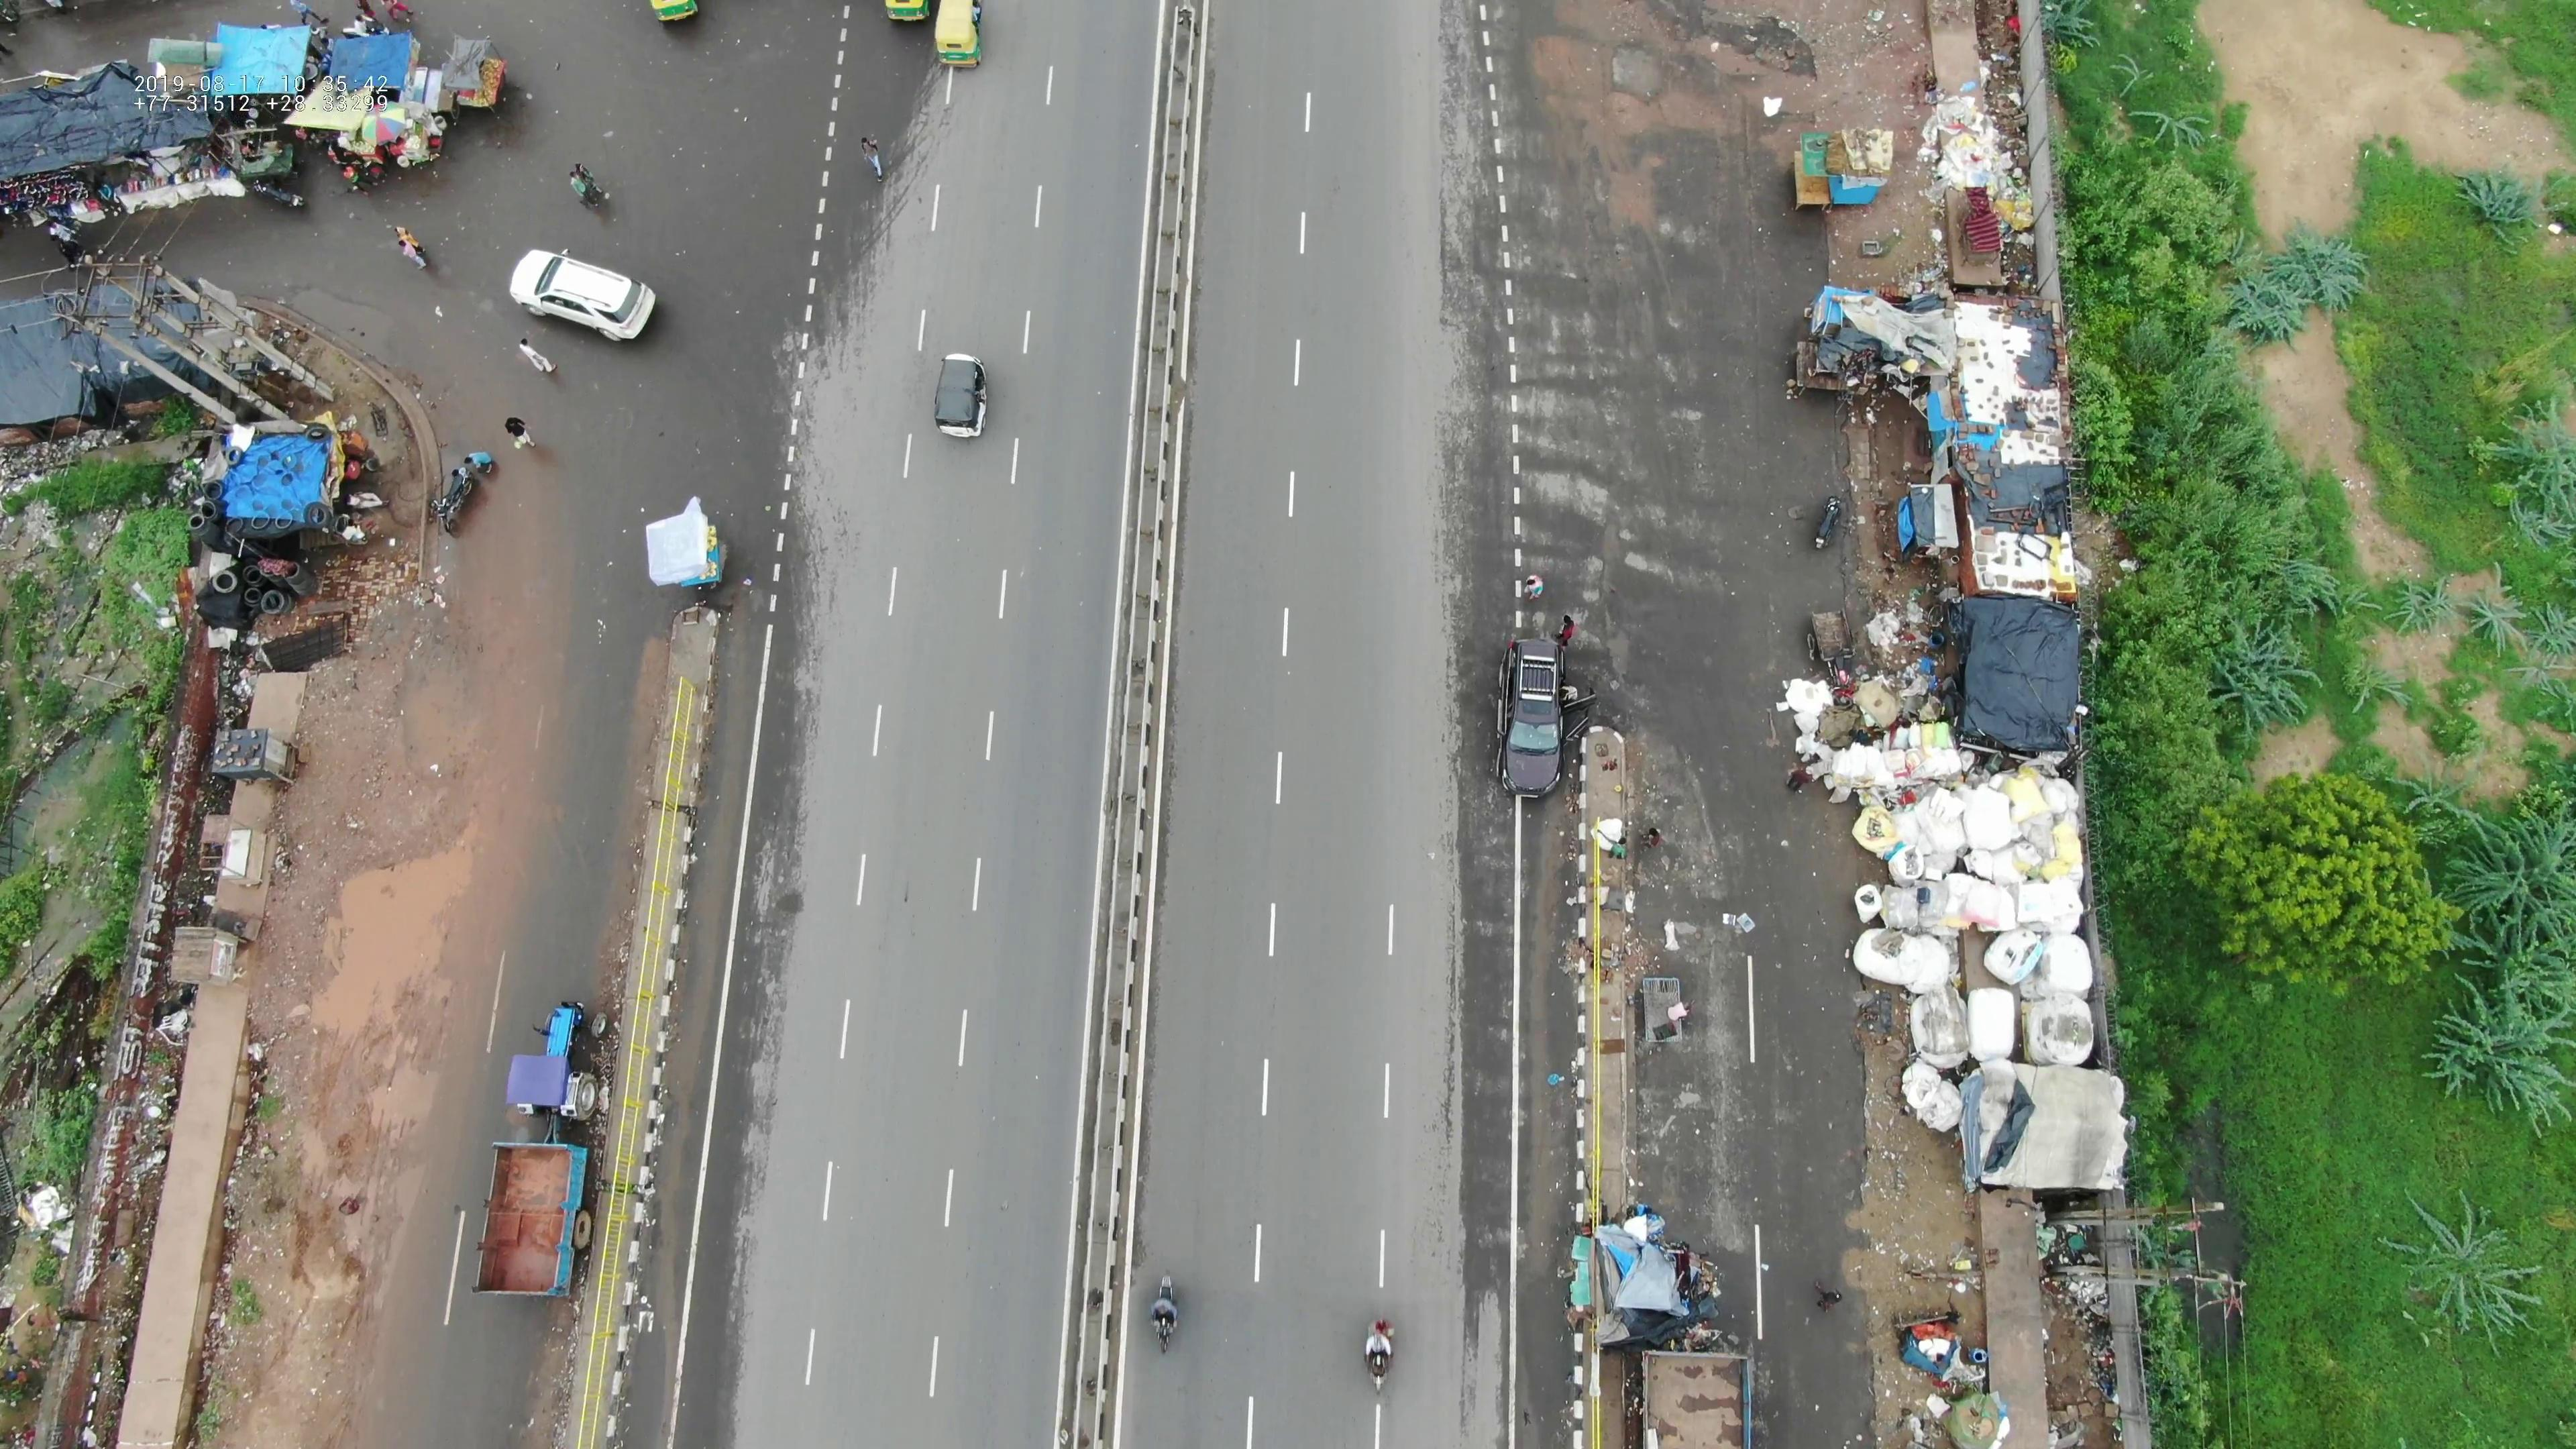Muddy_road: (203, 1143, 384, 1428)
Potholes: (1559, 508, 1651, 623)
Waterlogging: (283, 821, 492, 1100)
